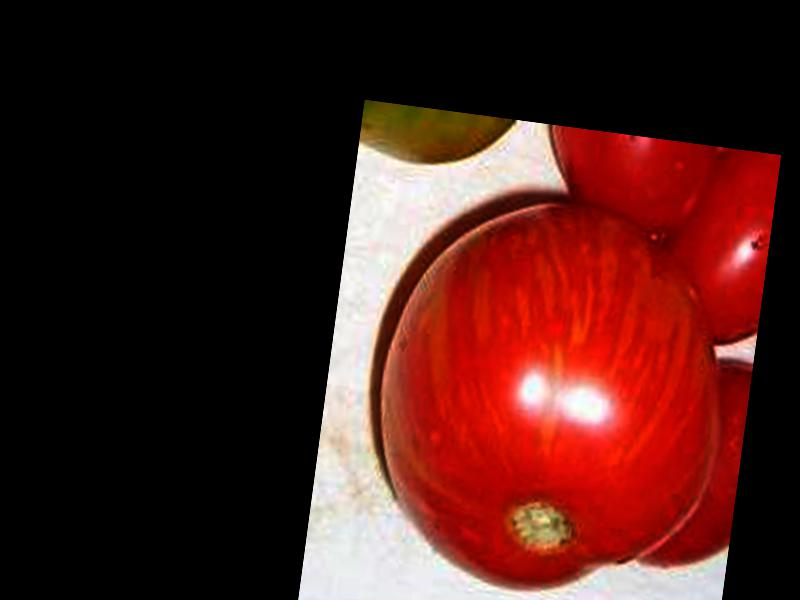Tomato: (356, 179, 748, 600)
